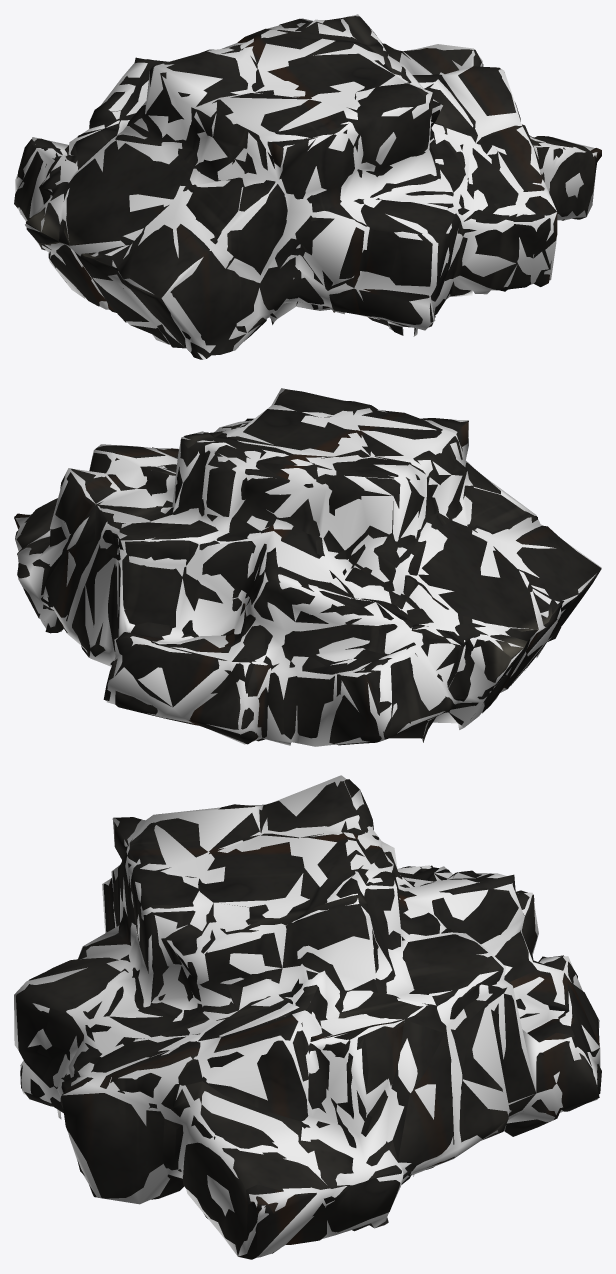
Rendered from CAVE_Rubble.fbx.
The picture shows the model from 3 angles, top to bottom: view 1: azimuth 30°, elevation 25°; view 2: azimuth 150°, elevation 25°; view 3: azimuth 270°, elevation 25°; orthographic projection. The views are drawn at different scales.
Parts seen in each view (by area): view 1: CAVE_Rubble_LOD0, CAVE_Rubble_COL; view 2: CAVE_Rubble_LOD0, CAVE_Rubble_COL; view 3: CAVE_Rubble_LOD0, CAVE_Rubble_COL.
Boxes of the visible parts, bbox=[...] form: CAVE_Rubble_LOD0: bbox=[14, 16, 601, 359]; CAVE_Rubble_COL: bbox=[15, 14, 597, 359]; CAVE_Rubble_LOD0: bbox=[14, 389, 601, 745]; CAVE_Rubble_COL: bbox=[14, 388, 601, 746]; CAVE_Rubble_LOD0: bbox=[16, 779, 601, 1259]; CAVE_Rubble_COL: bbox=[14, 775, 600, 1257].
Size of what is drawn, in the model's own units: 4.29 by 1.73 by 3.44.
